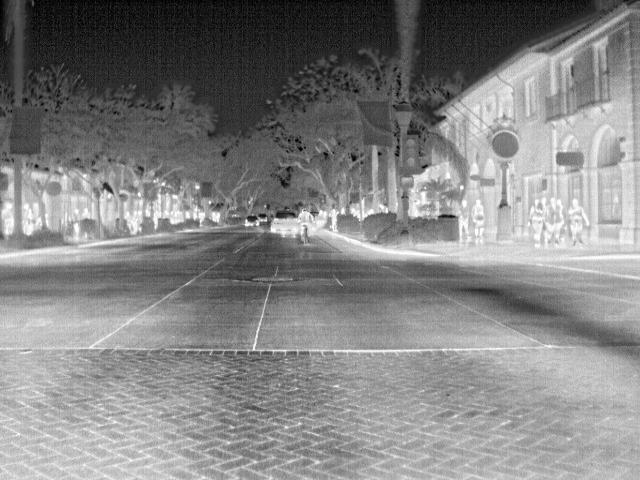car: (269, 212, 299, 232), (241, 214, 259, 227)
person: (568, 198, 588, 246), (546, 196, 565, 246), (526, 198, 545, 244), (469, 198, 485, 244), (457, 198, 472, 244)
